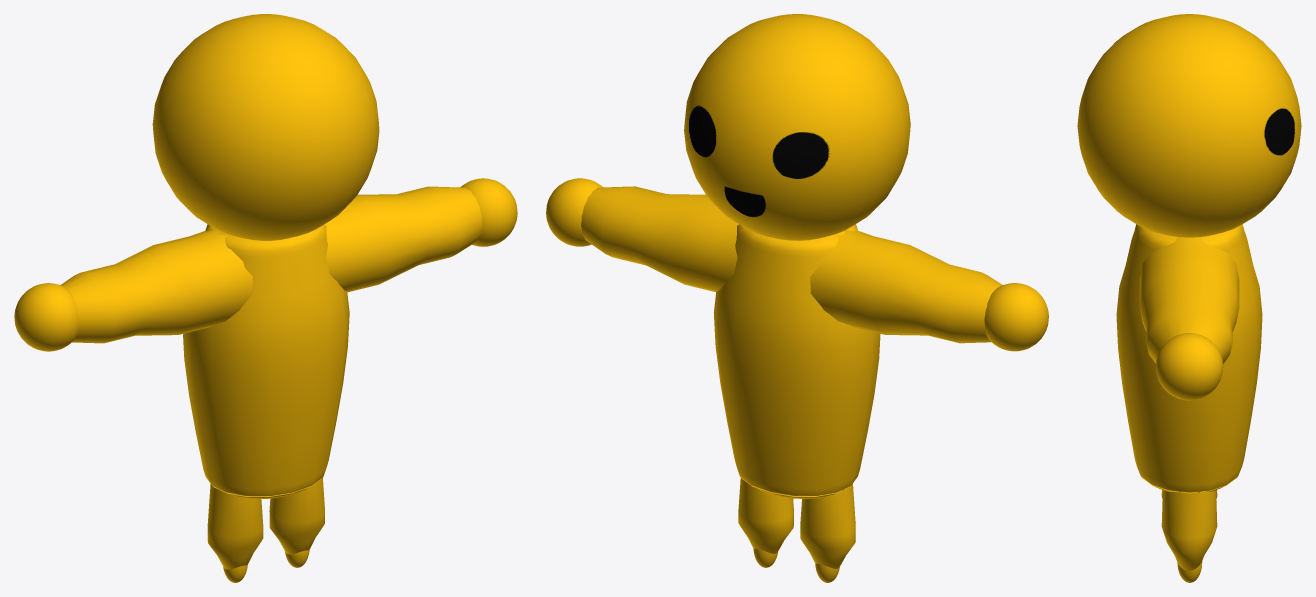
The model's file is Player.FBX.
3 renders of one model, left to right at view 1: azimuth 30°, elevation 25°; view 2: azimuth 150°, elevation 25°; view 3: azimuth 270°, elevation 25°, orthographic.
Parts seen in each view (by area): view 1: Head, Body, Arm02, Arm01, Foot02, Sphere002, Foot01, Sphere007; view 2: Head, Body, Arm02, Arm01, Sphere002, Foot02, Foot01, Sphere007; view 3: Head, Body, Arm01, Sphere007, Foot01.
Part boxes in pixels (x1,y1,x2,y2): Head: (152, 14, 379, 240); Body: (183, 224, 349, 496); Arm02: (60, 230, 252, 343); Arm01: (324, 186, 482, 292); Foot02: (207, 484, 263, 569); Sphere002: (14, 283, 78, 351); Foot01: (269, 478, 324, 554); Sphere007: (460, 178, 517, 246); Head: (684, 14, 910, 240); Body: (714, 224, 880, 496); Arm02: (810, 230, 1002, 343); Arm01: (581, 186, 738, 291); Sphere002: (984, 283, 1048, 351); Foot02: (800, 483, 855, 568); Foot01: (738, 478, 793, 553); Sphere007: (546, 178, 602, 246); Head: (1077, 14, 1301, 237); Body: (1116, 224, 1262, 493); Arm01: (1139, 237, 1239, 364); Sphere007: (1155, 333, 1223, 400); Foot01: (1161, 490, 1217, 570).
Size of the model in its own units: 575 by 612 by 229.
11 materials, 11 textured.
